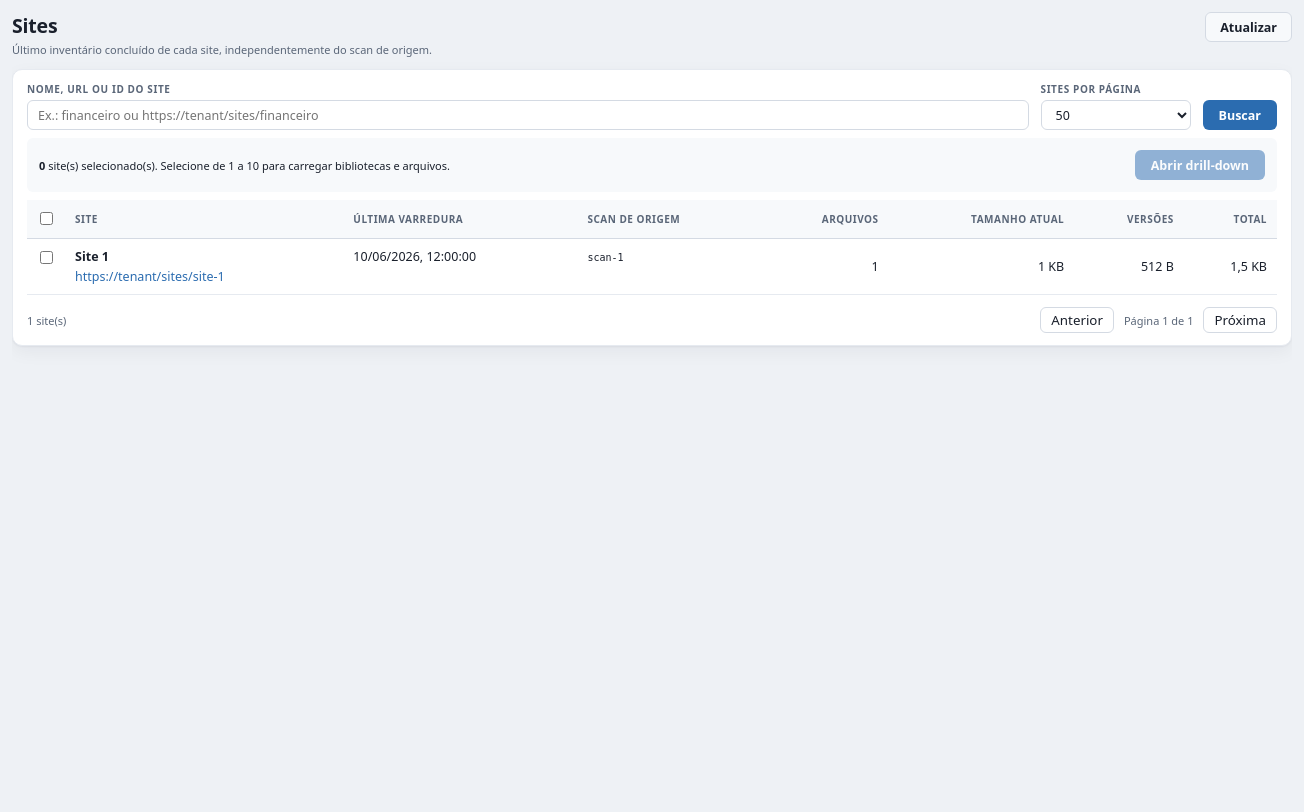
Test: SitesPage › carrega bibliotecas e métricas de arquivos sob demanda
Expected: the text "Site 1" is shown, [75,248,109,265]
What coordinates should you click on to do the following:
click the checkbox named "Selecionar Site 1"
I would click on:
 (46, 258)
Its box is [40,251,53,264].
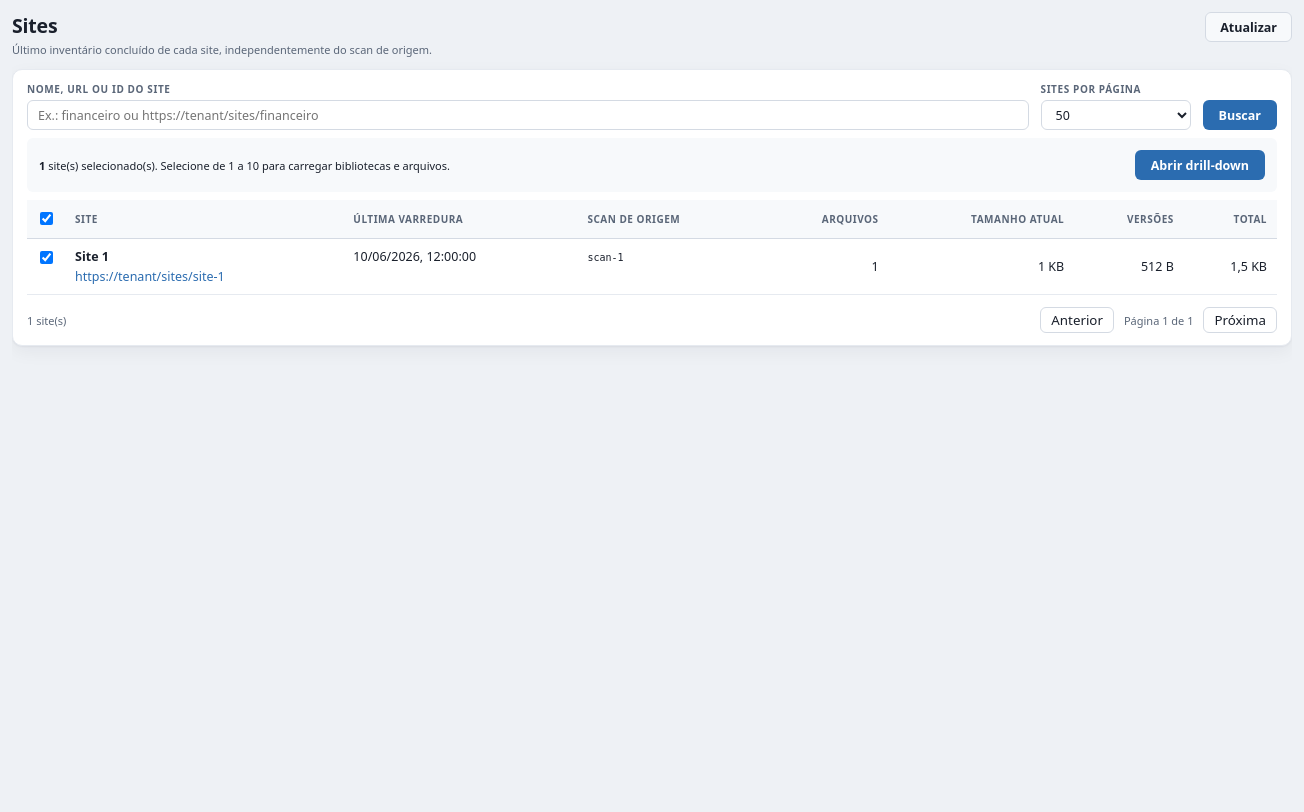
What coordinates should you click on to do the following:
click the button "Abrir drill-down"
I would click on:
 (1200, 165)
Its box is [1135,150,1265,180].
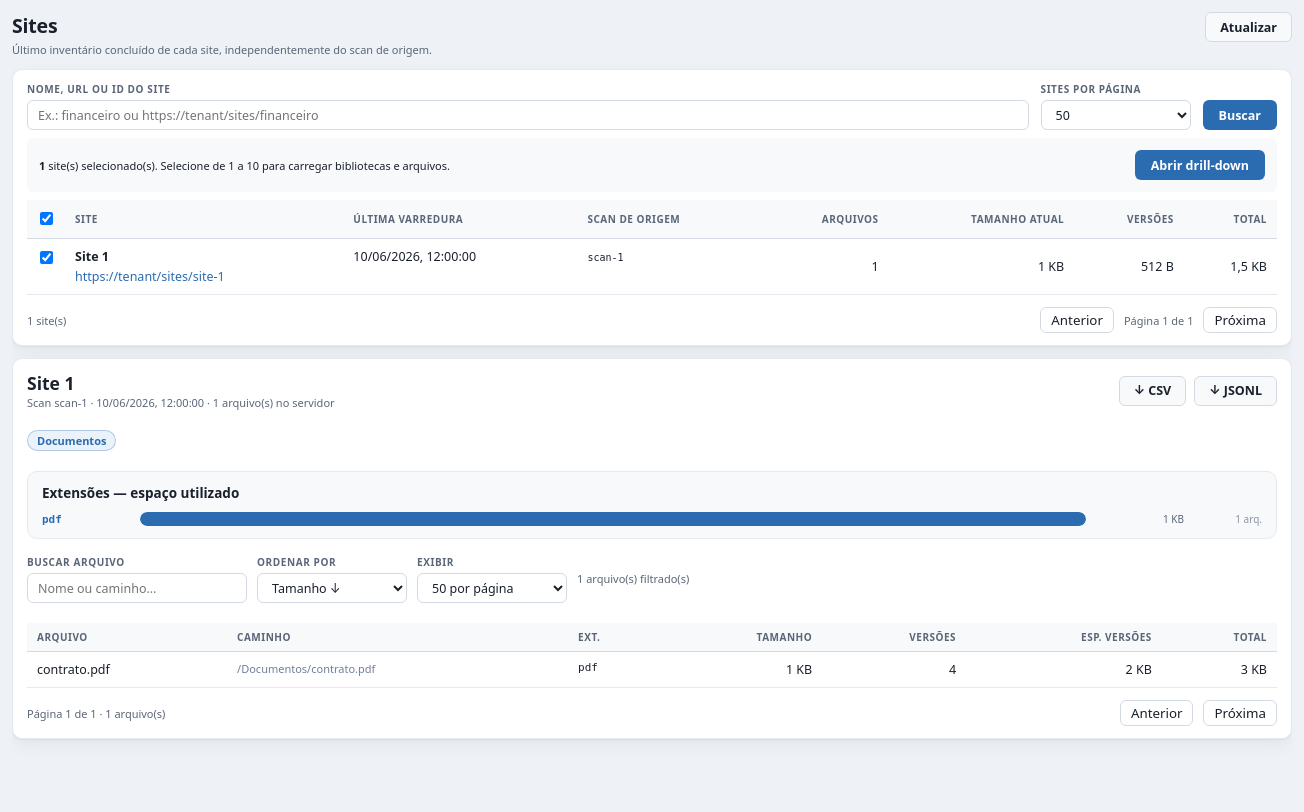
Result: the heading "Documentos" is shown at [27,430,116,451]
Result: the text "contrato.pdf" is shown at [27,652,227,688]
Result: the text "/Documentos/contrato.pdf" is shown at [227,652,568,688]
